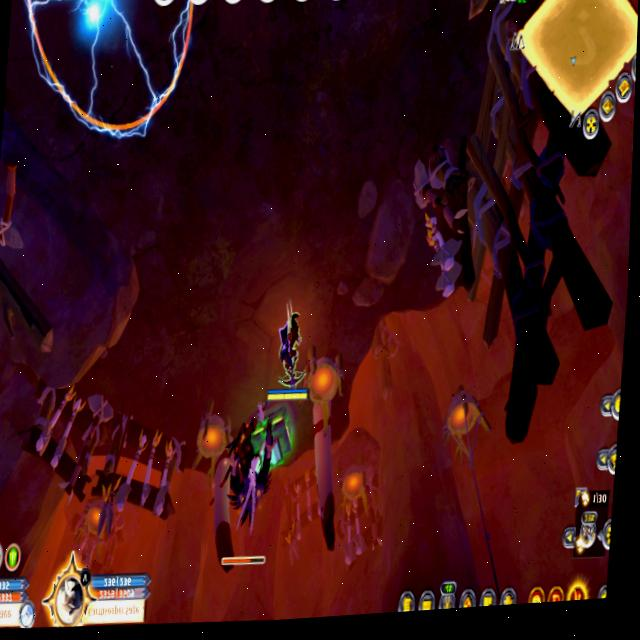ore: (217, 401, 281, 574)
red: (263, 305, 316, 407)
silver: (25, 0, 193, 134)
